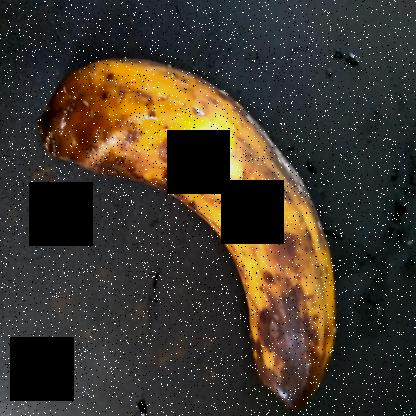rotten: (25, 26, 360, 415)
